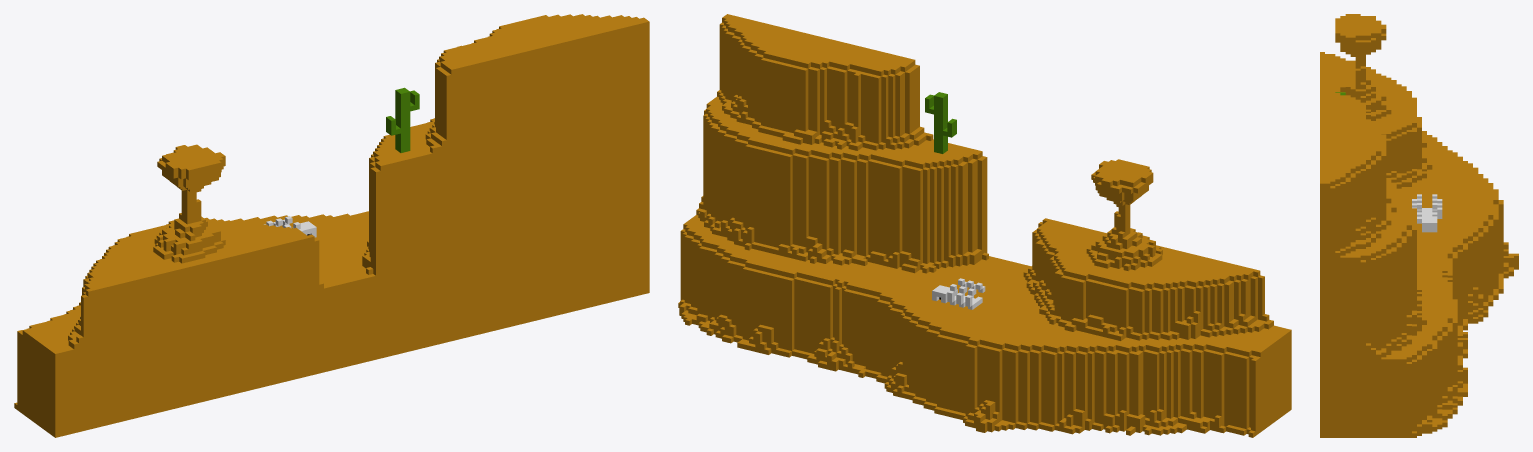
The model's file is Canyon.obj.
3 renders of one model, left to right at view 1: azimuth 30°, elevation 25°; view 2: azimuth 150°, elevation 25°; view 3: azimuth 270°, elevation 25°, orthographic. The views are drawn at different scales.
Size of the model in its own units: 126 by 55 by 39.
